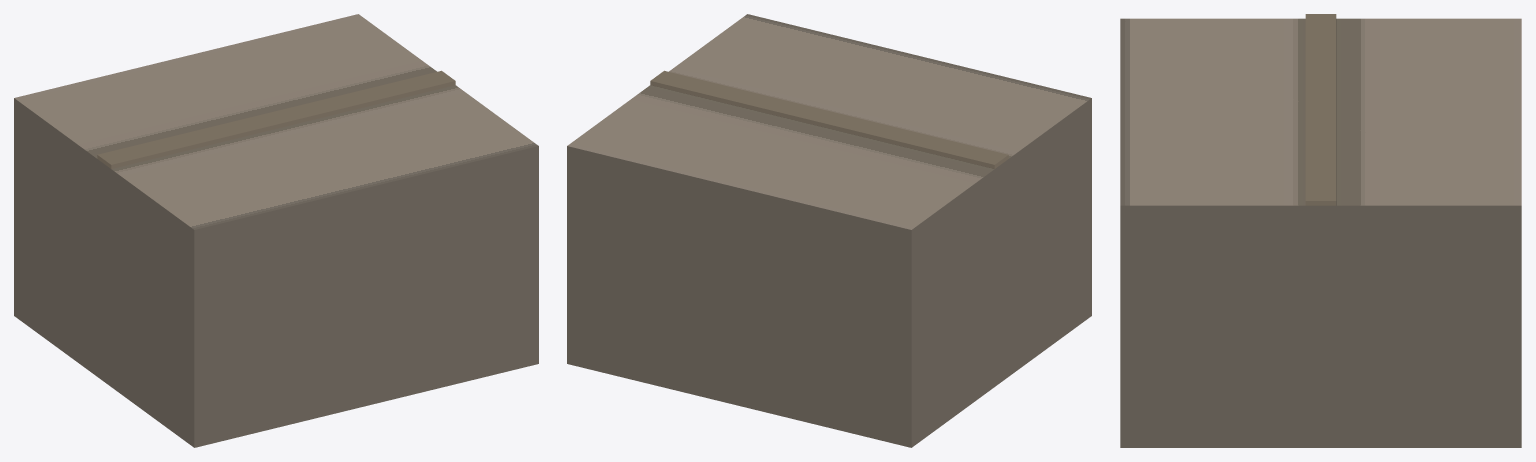
The model's file is Building_AncientCardboardBox.glb.
3 views of the same model, side by side, from view 1: azimuth 30°, elevation 25°; view 2: azimuth 150°, elevation 25°; view 3: azimuth 270°, elevation 25° (orthographic). The views are drawn at different scales.
Visible parts, largest first — view 1: AncientCardboardBox; view 2: AncientCardboardBox; view 3: AncientCardboardBox.
Boxes of the visible parts, x1,y1,x2,y2 form: AncientCardboardBox: [14, 14, 538, 447]; AncientCardboardBox: [567, 14, 1091, 447]; AncientCardboardBox: [1120, 14, 1521, 447].
Size of the model in its own units: 0.86 by 0.53 by 0.78.
Materials: 1 (1 with a texture image).
